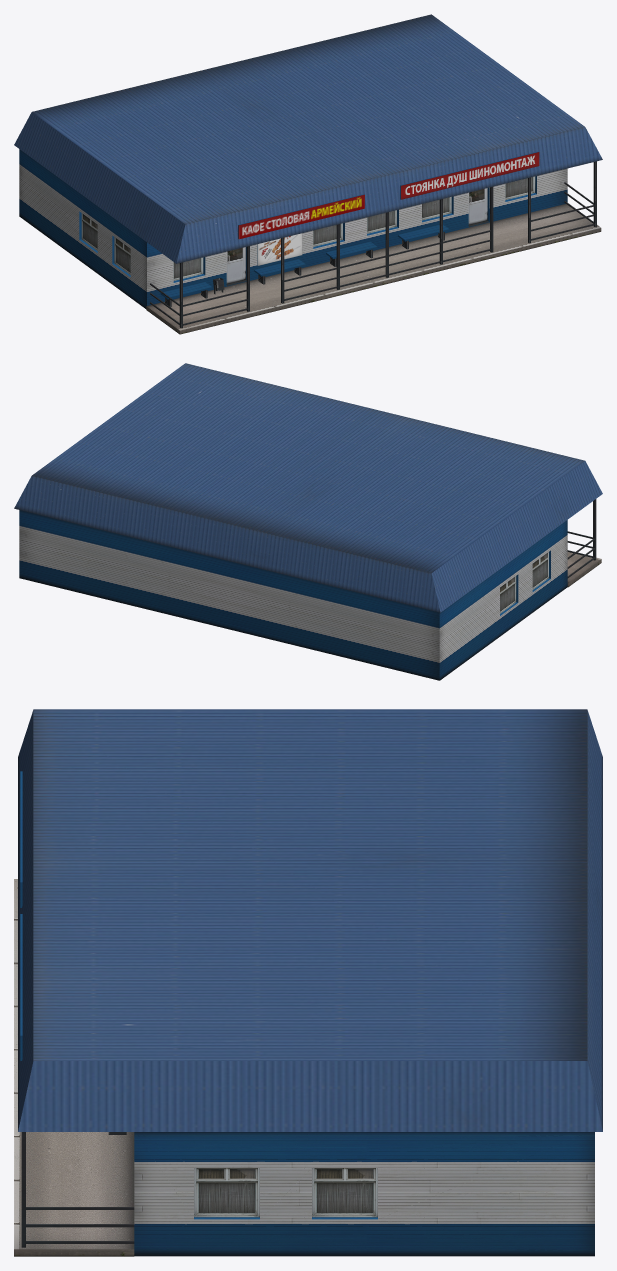
File: r254_stoyanka.FBX
3 renders of one model, top to bottom at view 1: azimuth 30°, elevation 25°; view 2: azimuth 150°, elevation 25°; view 3: azimuth 270°, elevation 25°, orthographic. The views are drawn at different scales.
Parts seen in each view (by area): view 1: r254_stoyanka; view 2: r254_stoyanka; view 3: r254_stoyanka.
Part boxes in pixels (<box>): r254_stoyanka: <box>14,14,602,334</box>; r254_stoyanka: <box>14,363,602,680</box>; r254_stoyanka: <box>14,709,602,1256</box>.
Bounding box in the file's own units: 2028 × 1347 × 470.
